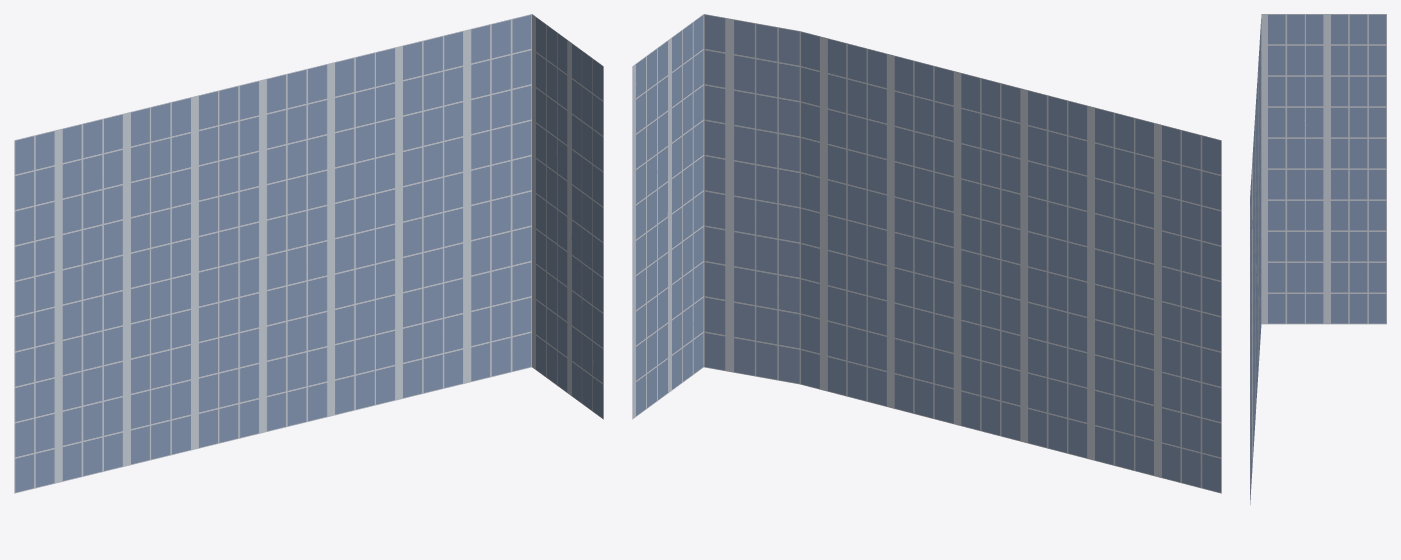
3 views of the same model, side by side, from view 1: azimuth 30°, elevation 25°; view 2: azimuth 150°, elevation 25°; view 3: azimuth 270°, elevation 25° (orthographic). The views are drawn at different scales.
Bounding box in the file's own units: 46 × 30 × 12.
2 materials, 2 textured.
